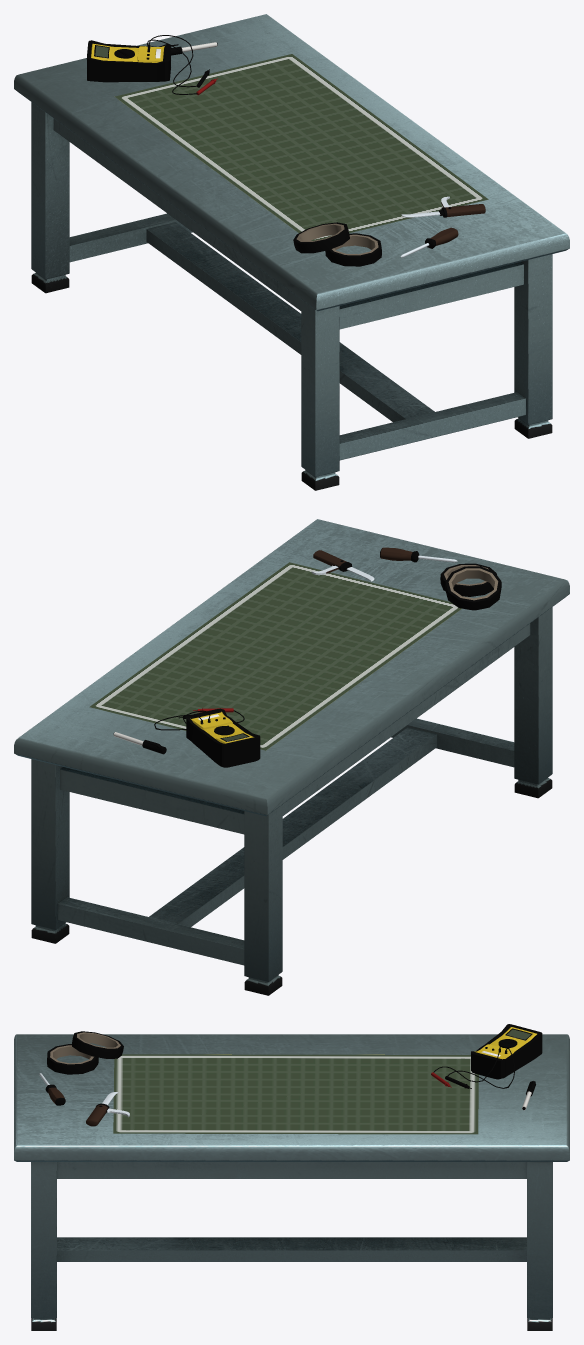
The model's file is table_et_outils.fbx.
3 views of the same model, one above another, from view 1: azimuth 30°, elevation 25°; view 2: azimuth 150°, elevation 25°; view 3: azimuth 270°, elevation 25° (orthographic). The views are drawn at different scales.
Visible parts, largest first — view 1: Table de désamorcage.001, Plane, Multimetre, Adhésifs, Couteau; view 2: Table de désamorcage.001, Plane, Multimetre, Adhésifs, Couteau, Tournevis; view 3: Table de désamorcage.001, Plane, Multimetre, Adhésifs, Couteau.
Boxes of the visible parts, x1=… form: Table de désamorcage.001: x1=14, y1=14, x2=569, y2=490; Plane: x1=115, y1=54, x2=488, y2=240; Multimetre: x1=86, y1=35, x2=217, y2=95; Adhésifs: x1=293, y1=222, x2=381, y2=266; Couteau: x1=401, y1=196, x2=485, y2=217; Table de désamorcage.001: x1=14, y1=519, x2=569, y2=995; Plane: x1=89, y1=562, x2=461, y2=750; Multimetre: x1=154, y1=708, x2=260, y2=767; Adhésifs: x1=440, y1=563, x2=501, y2=610; Couteau: x1=311, y1=550, x2=374, y2=581; Tournevis: x1=380, y1=547, x2=457, y2=562; Table de désamorcage.001: x1=14, y1=1034, x2=569, y2=1330; Plane: x1=113, y1=1054, x2=478, y2=1134; Multimetre: x1=431, y1=1024, x2=542, y2=1088; Adhésifs: x1=47, y1=1031, x2=123, y2=1074; Couteau: x1=86, y1=1092, x2=129, y2=1126.
Size of the model in its own units: 344 by 314 by 712.
14 materials, 2 textured.
